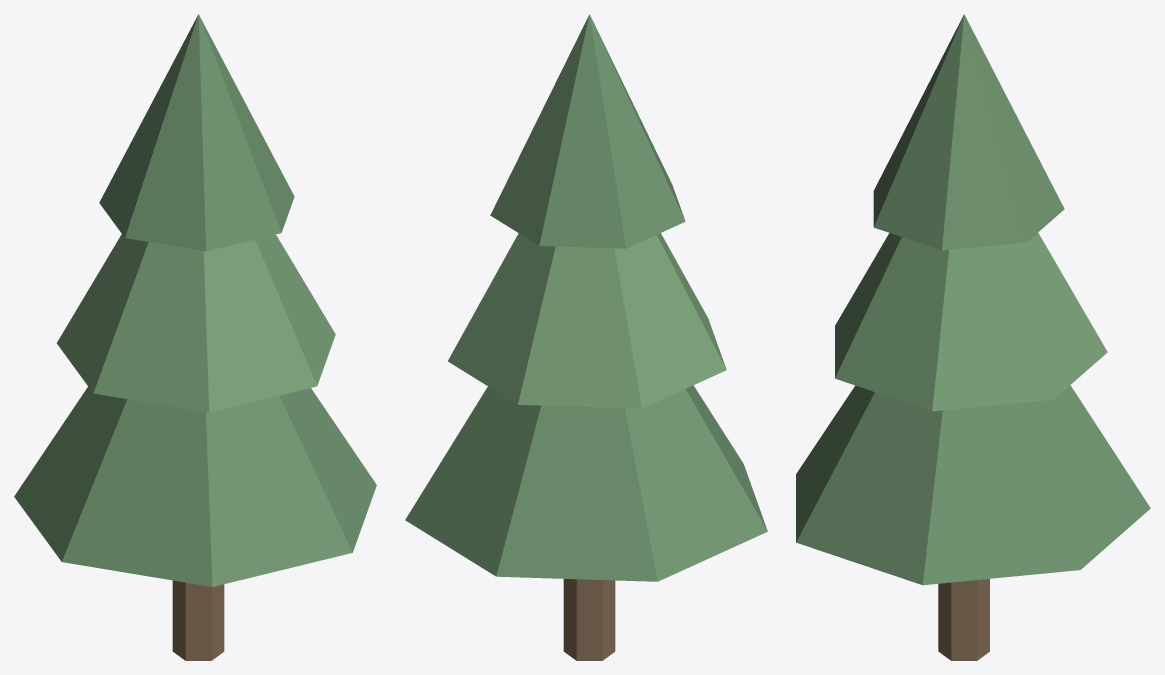
Rendered from Agac_Cam_Kucuk.glb.
The picture shows the model from 3 angles, left to right: view 1: azimuth 30°, elevation 25°; view 2: azimuth 150°, elevation 25°; view 3: azimuth 270°, elevation 25°; orthographic projection.
Visible parts, largest first — view 1: Agac_Cam_Kucuk; view 2: Agac_Cam_Kucuk; view 3: Agac_Cam_Kucuk.
Part boxes in pixels (<box>): Agac_Cam_Kucuk: <box>14,14,376,660</box>; Agac_Cam_Kucuk: <box>405,14,767,660</box>; Agac_Cam_Kucuk: <box>796,14,1150,660</box>.
Bounding box in the file's own units: 2.03 × 3.92 × 1.98.
